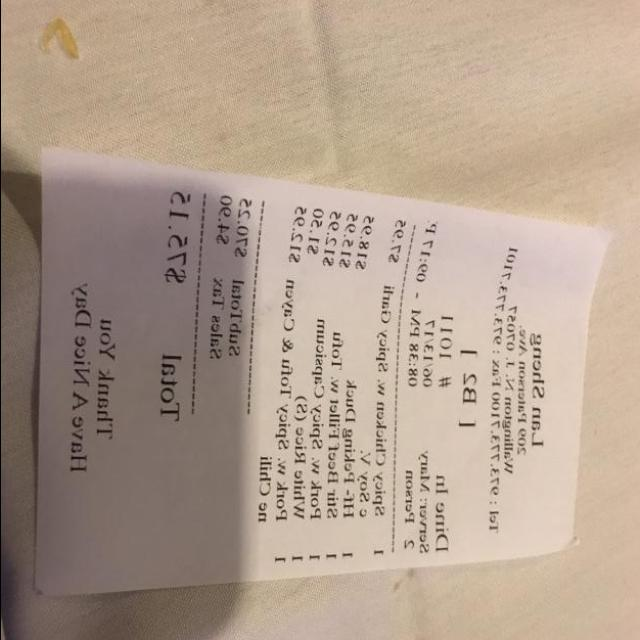kertas: (35, 148, 610, 601)
